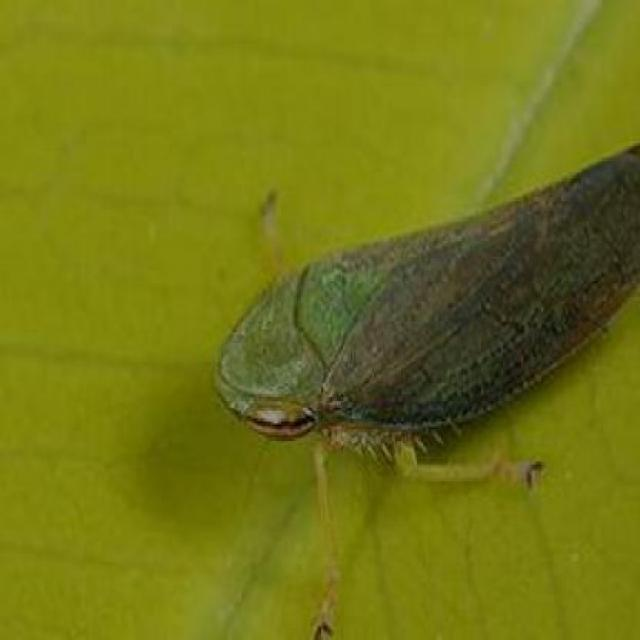green-leafhopper: (219, 139, 638, 627)
